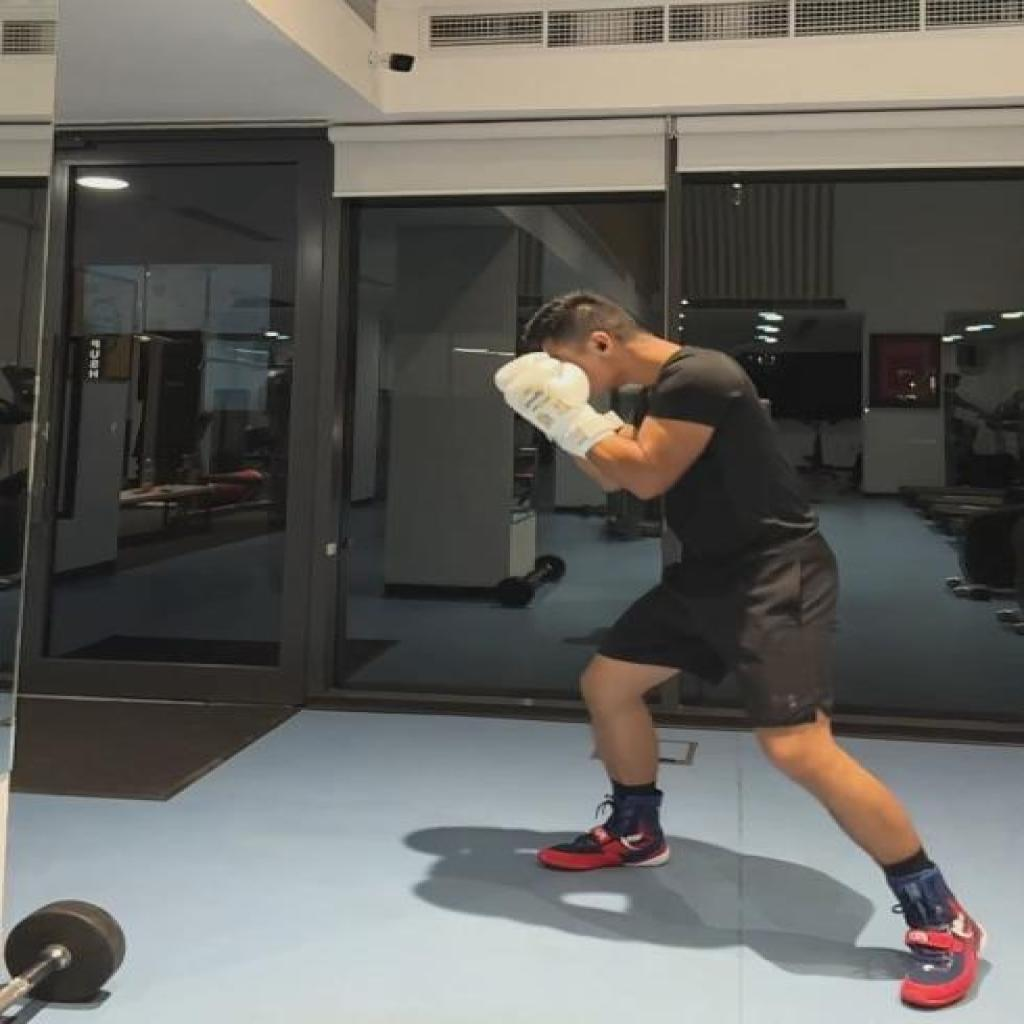no punch: (495, 288, 995, 1014)
